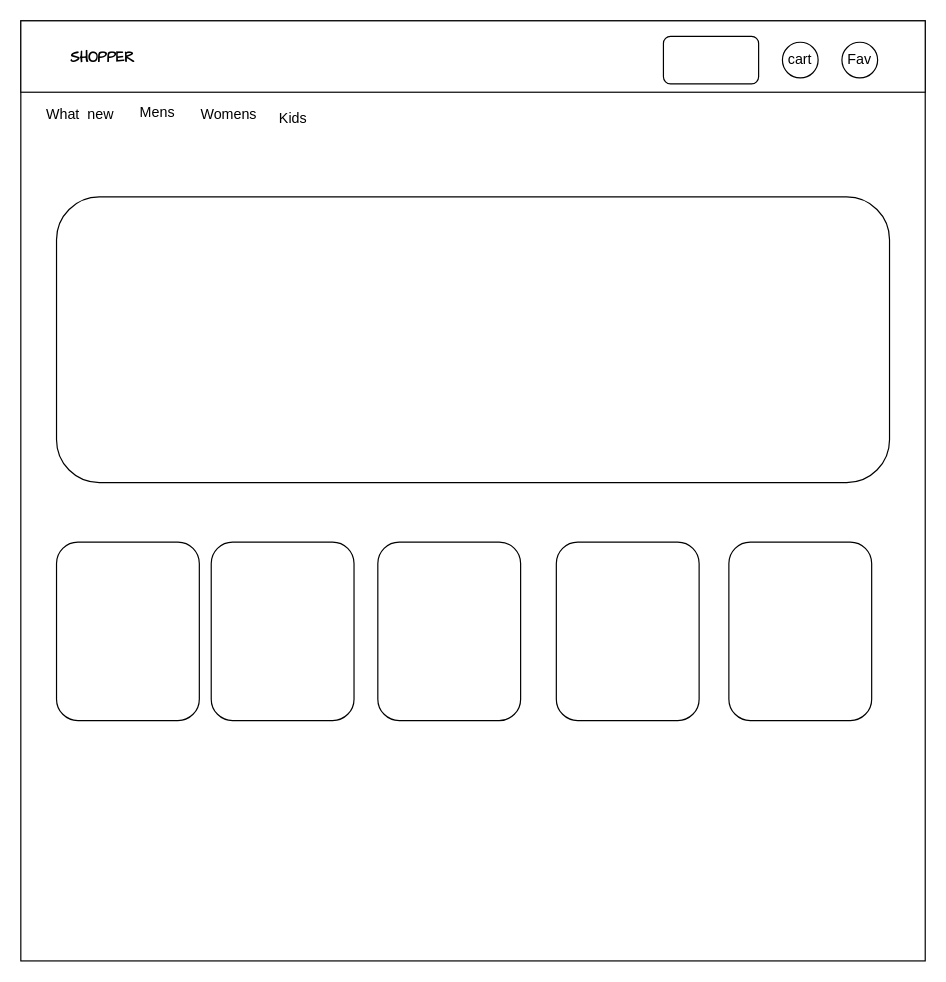
The diagram is 946 pixels wide and 982 high, and some of its shapes have lost their labels. The shapes that lost their labels are listed below. From the top down, each one's box as (x1, y1, x2, y2) in pixels, then its label:
(662, 35, 759, 84): Log In
(55, 196, 890, 483): What is New
